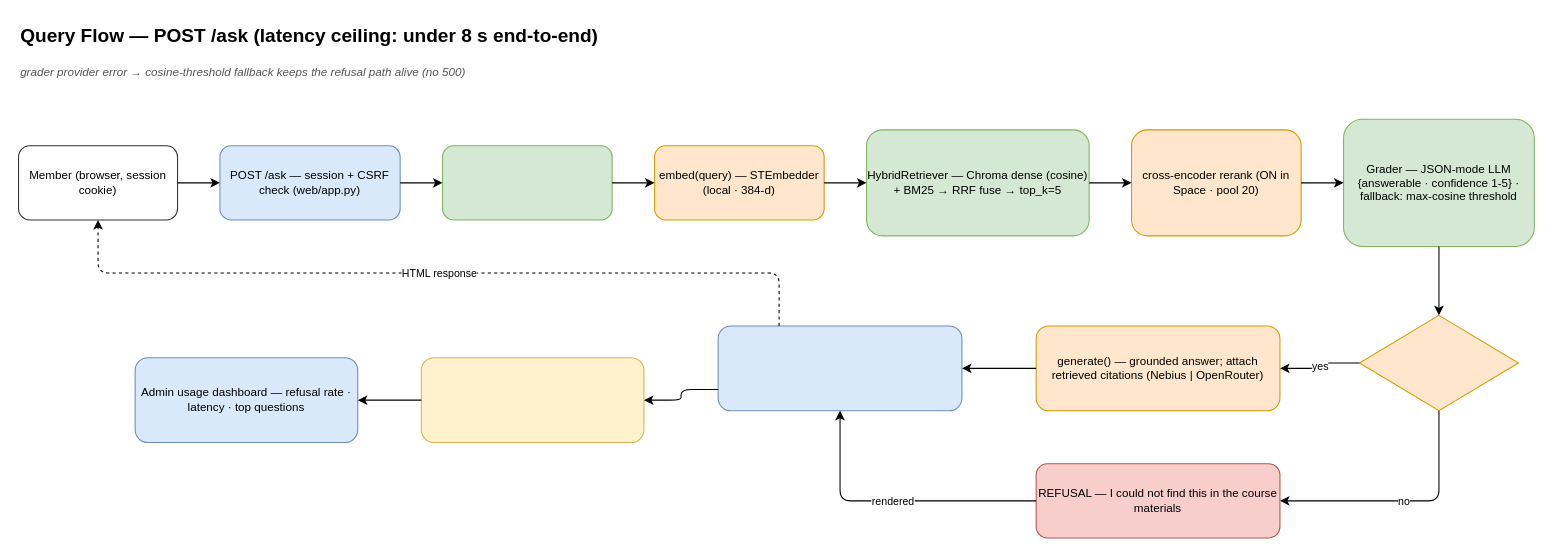
Some shapes in this 1553 by 557 pixel diagram are drawn without their labels. Each missing label, with the centre of its shape:
answerable?: point 1438,362
chat.html — answer + expandable source cards: point 839,368
datastore.log_query — best-effort · never blocks the answer (usage_log): point 532,400
QueryPipeline.answer(): point 526,182
